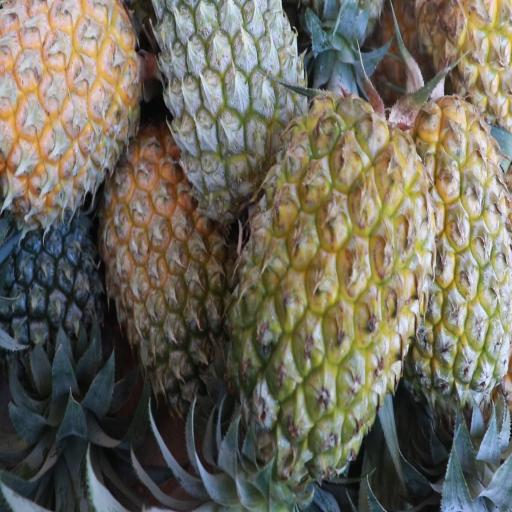------------------------------: (106, 131, 221, 391)
Pineapple - v8 v1: (226, 112, 430, 468), (395, 92, 512, 399), (0, 0, 137, 201)
